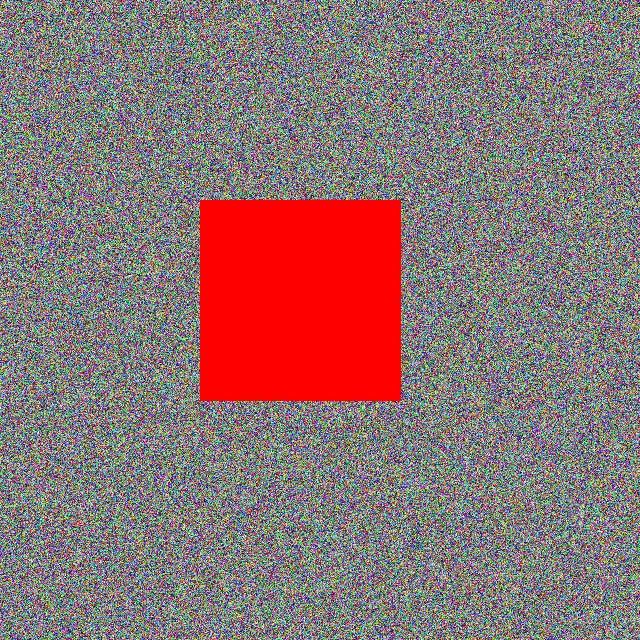Crow: (200, 200, 399, 399)
